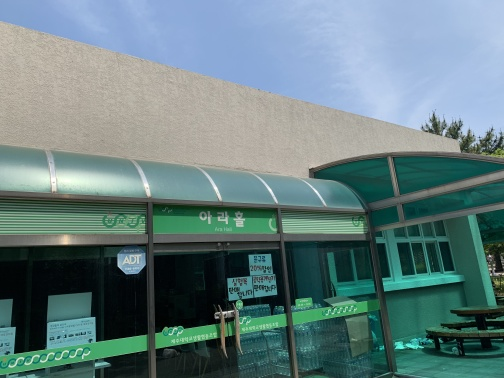Ara Hall: (1, 159, 502, 371)
